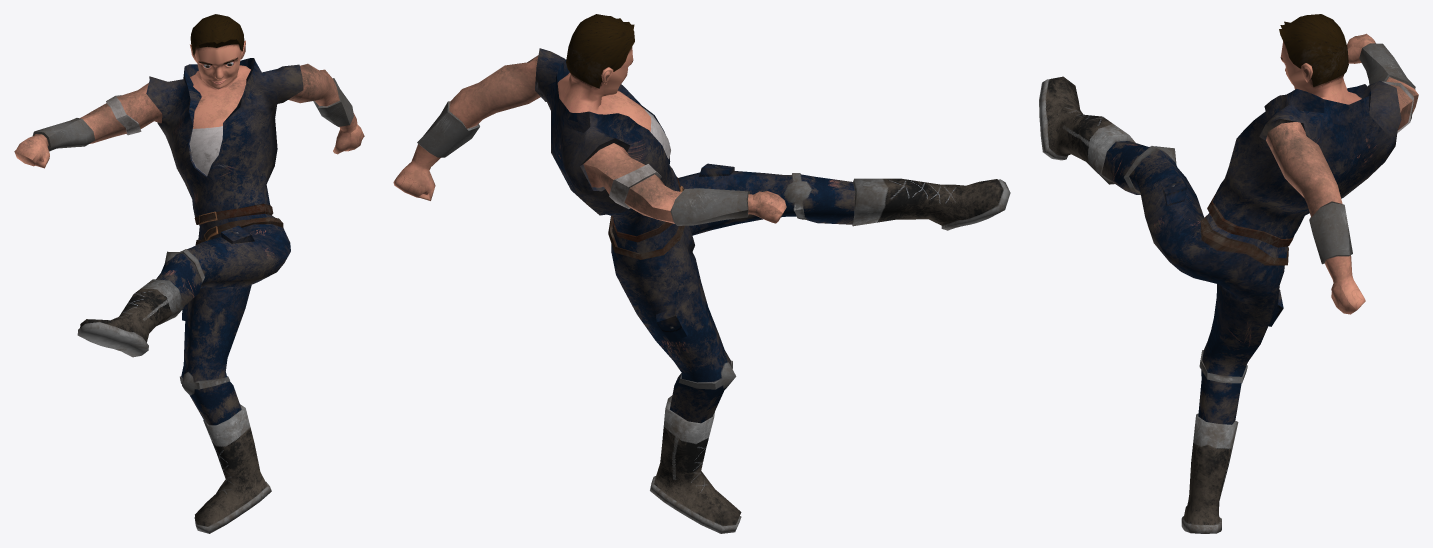
File: Anim_ataque_f3_jugador.0031.obj
3 renders of one model, left to right at view 1: azimuth 30°, elevation 25°; view 2: azimuth 150°, elevation 25°; view 3: azimuth 270°, elevation 25°, orthographic. The views are drawn at different scales.
Parts seen in each view (by area): view 1: polySurface1; view 2: polySurface1; view 3: polySurface1.
Part boxes in pixels (bbox=[...]): polySurface1: bbox=[14, 14, 364, 533]; polySurface1: bbox=[393, 14, 1010, 533]; polySurface1: bbox=[1039, 14, 1418, 533].
Bounding box in the file's own units: 8.62 × 9.41 × 5.94.
